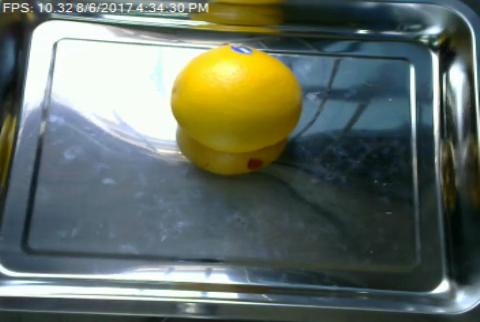Orange: (168, 44, 303, 150)
